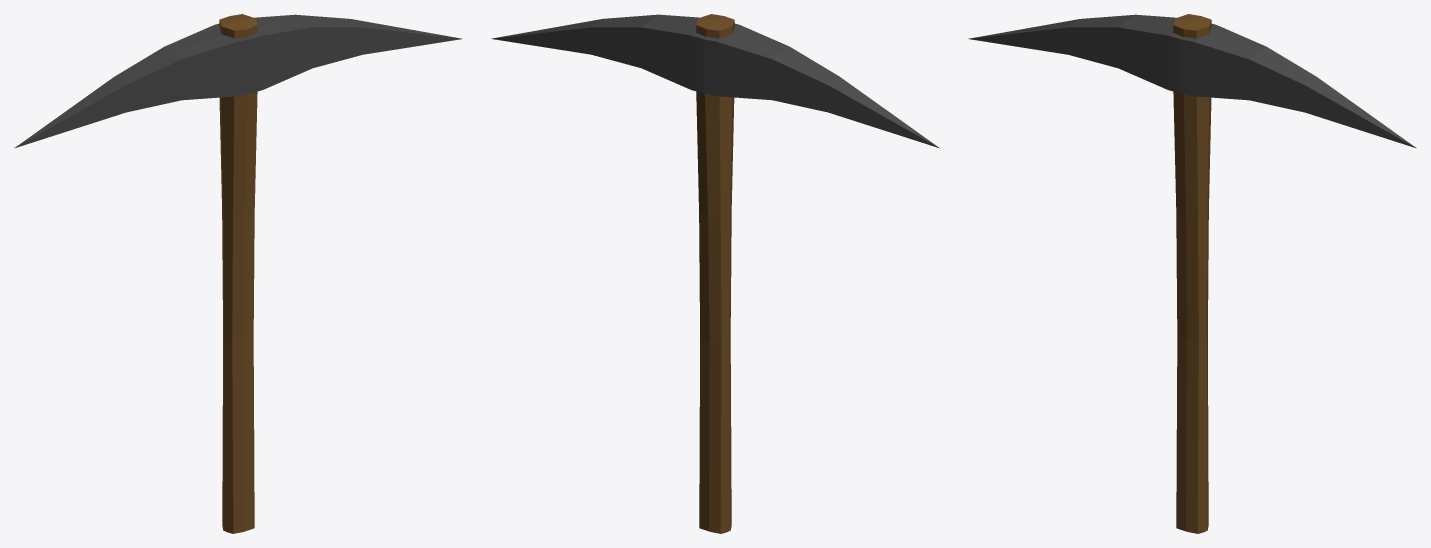
The model's file is Pickaxe.fbx.
3 views of the same model, side by side, from view 1: azimuth 30°, elevation 25°; view 2: azimuth 150°, elevation 25°; view 3: azimuth 330°, elevation 25° (orthographic).
Visible parts, largest first — view 1: Pickaxe; view 2: Pickaxe; view 3: Pickaxe.
Part boxes in pixels (<box>): Pickaxe: <box>14,14,462,533</box>; Pickaxe: <box>491,14,939,533</box>; Pickaxe: <box>968,14,1416,533</box>.
Size of the model in its own units: 200 by 218 by 18.59.
